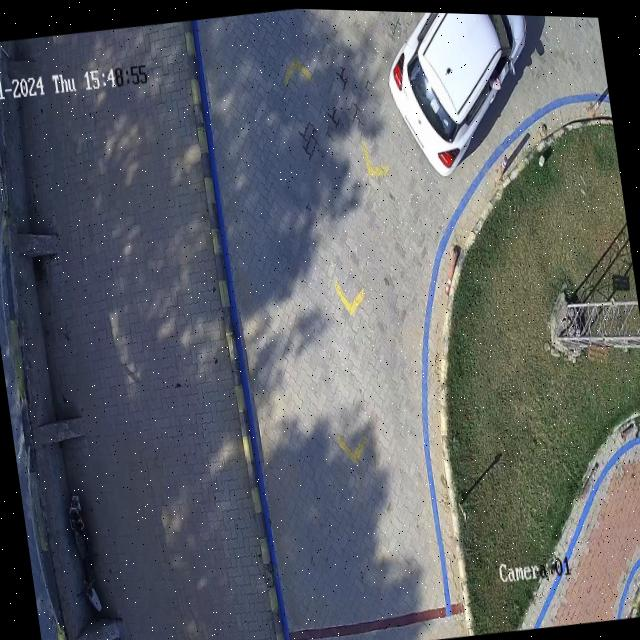car: (389, 10, 529, 173)
